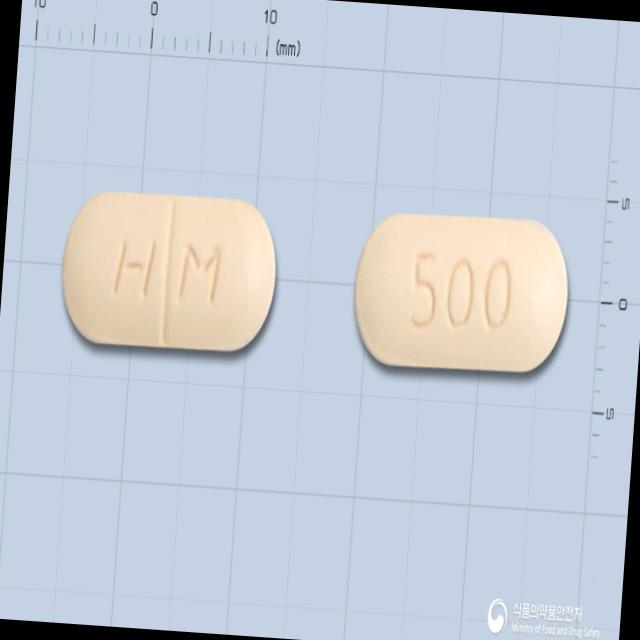Levoxacin: (348, 210, 574, 380), (57, 187, 281, 356)
